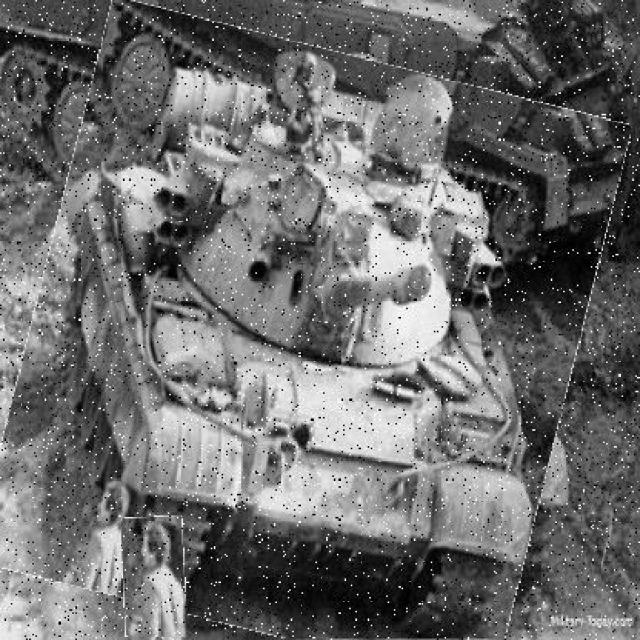Person: (123, 518, 187, 639)
Tank: (3, 24, 603, 640)
